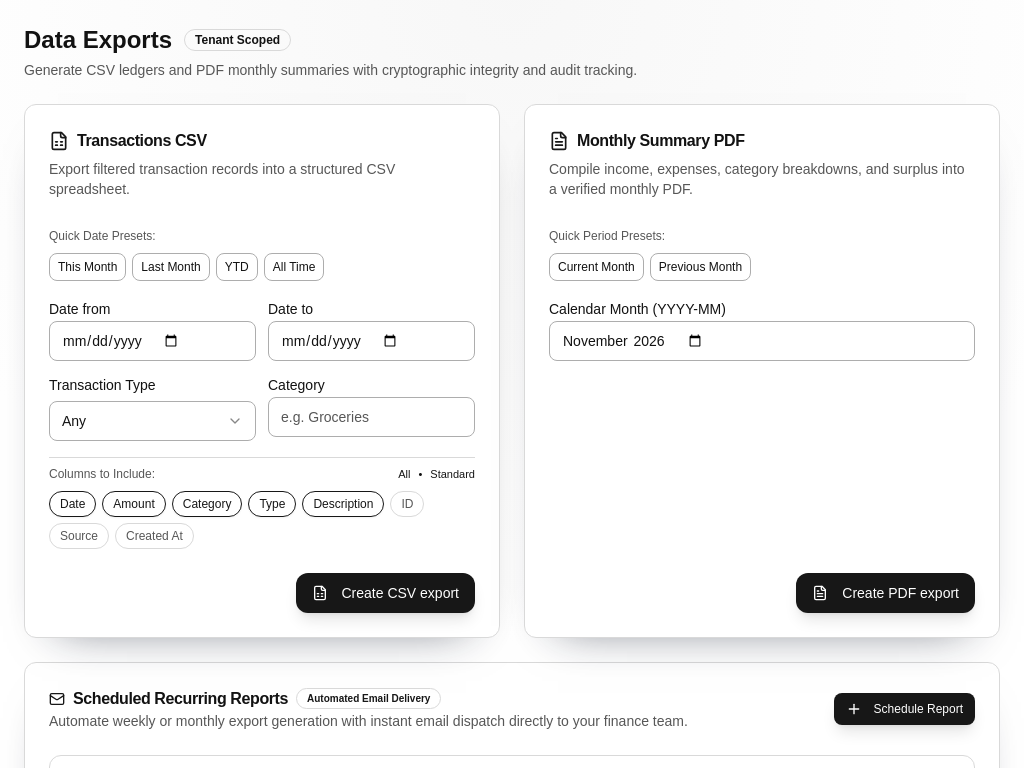
Test: Exports page › creates a new scheduled recurring export report via dialog
Later steps or results of the test are not shown.
Click the button with test id "btn-open-schedule-dialog". click: (904, 708)
box: [834, 692, 975, 724]
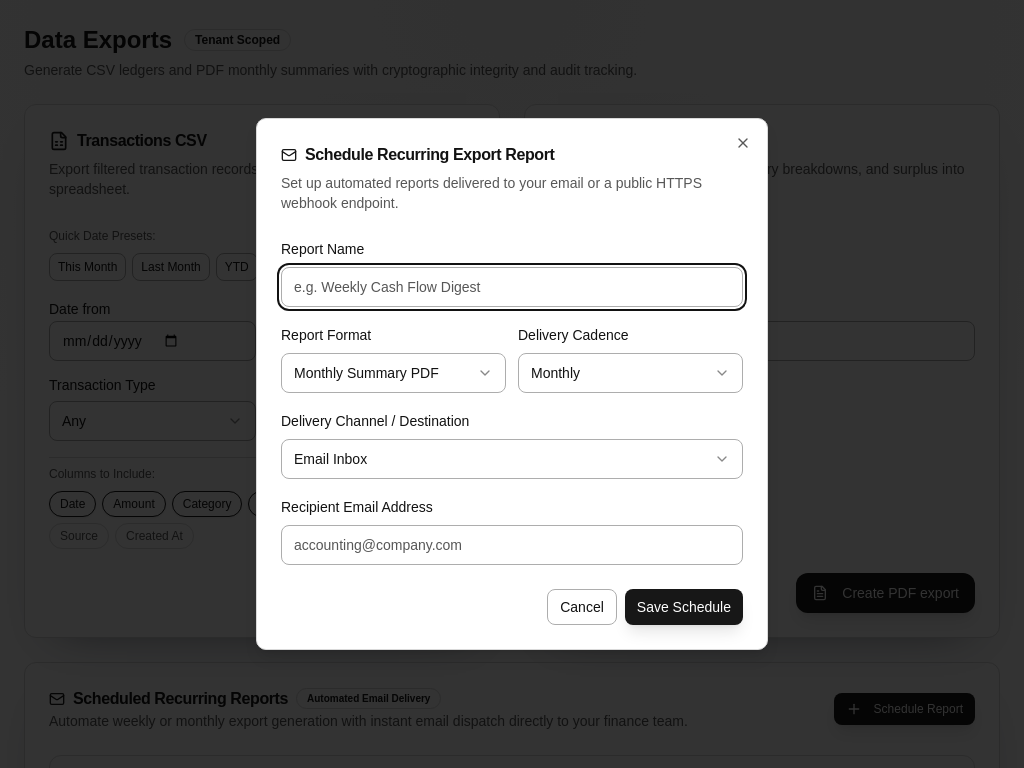
Now the dialog with test id "dialog-create-schedule" is shown, box [256, 118, 768, 650]
